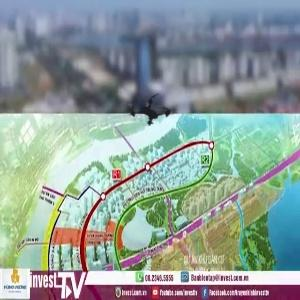drone: (110, 72, 192, 154)
